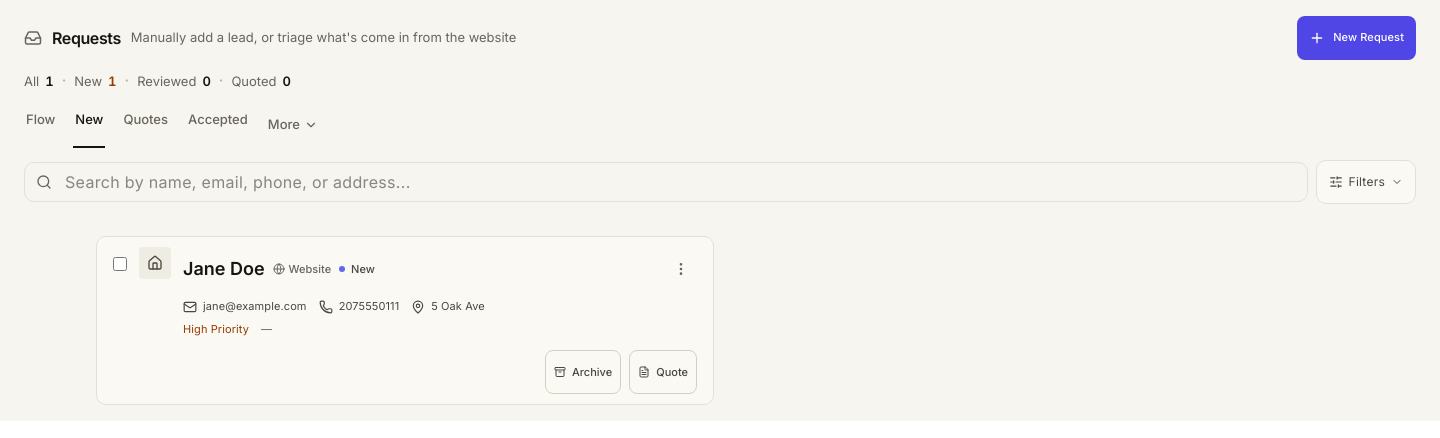
Test: Requests — the triage verbs are on the card › keeps Convert and Delete in the menu — triage is two verbs, not five
expect the button "convert to client" is not shown: met
Click the button named "More actions" at point(681, 269), box x1=665 y1=247 x2=697 y2=291
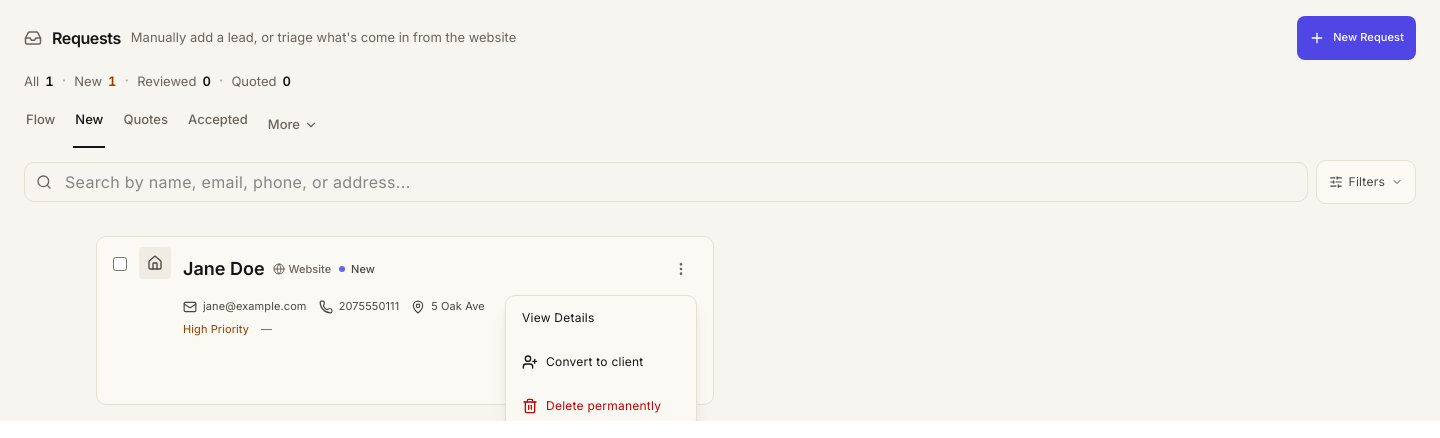
expect the button "Convert to client" is shown: met, box x1=506 y1=340 x2=696 y2=384
expect the button "Delete permanently" is shown: met, box x1=506 y1=384 x2=696 y2=421
